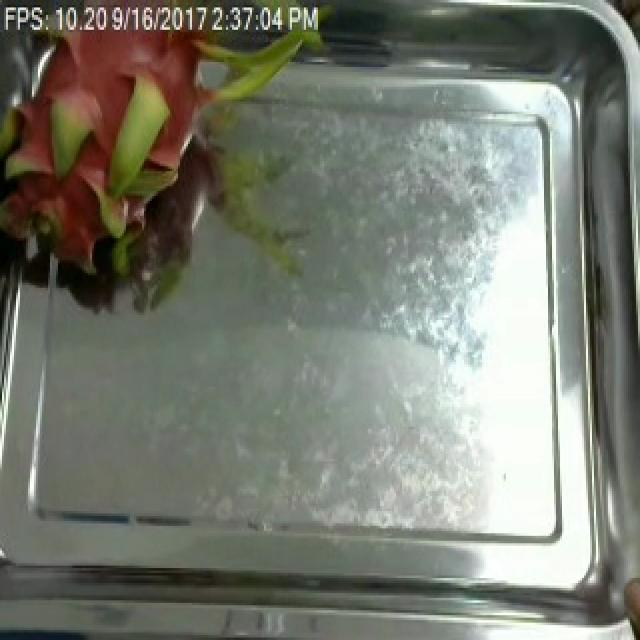fruit: (0, 0, 336, 342)
